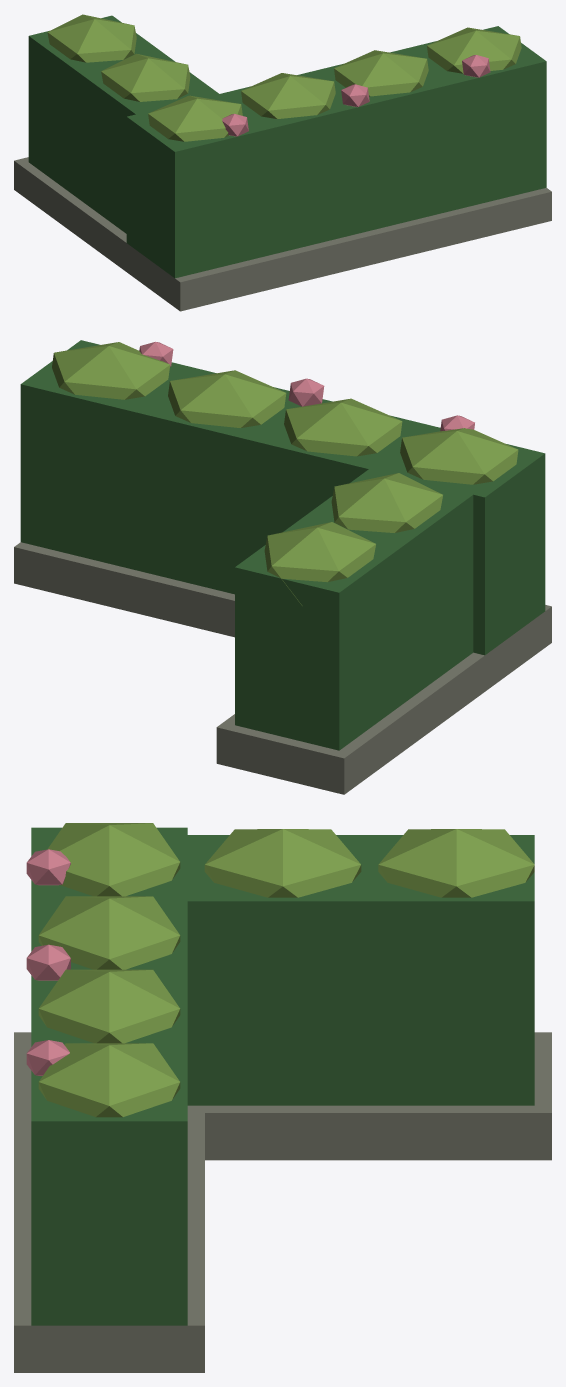
File: Backyard_HedgeCorner_Showcase.glb
3 renders of one model, top to bottom at view 1: azimuth 30°, elevation 25°; view 2: azimuth 150°, elevation 25°; view 3: azimuth 270°, elevation 25°, orthographic. The views are drawn at different scales.
Visible parts, largest first — view 1: Backyard_HedgeCorner_Showcase; view 2: Backyard_HedgeCorner_Showcase; view 3: Backyard_HedgeCorner_Showcase.
Boxes of the visible parts, <box> form: Backyard_HedgeCorner_Showcase: <box>14,14,551,311</box>; Backyard_HedgeCorner_Showcase: <box>14,340,551,794</box>; Backyard_HedgeCorner_Showcase: <box>14,823,551,1372</box>.
Size of the model in its own units: 4 by 1.85 by 3.1.
